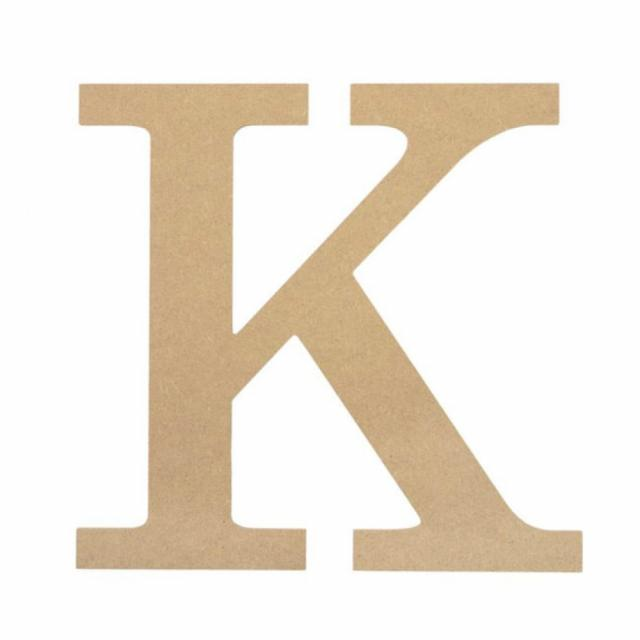K: (27, 37, 597, 597)
